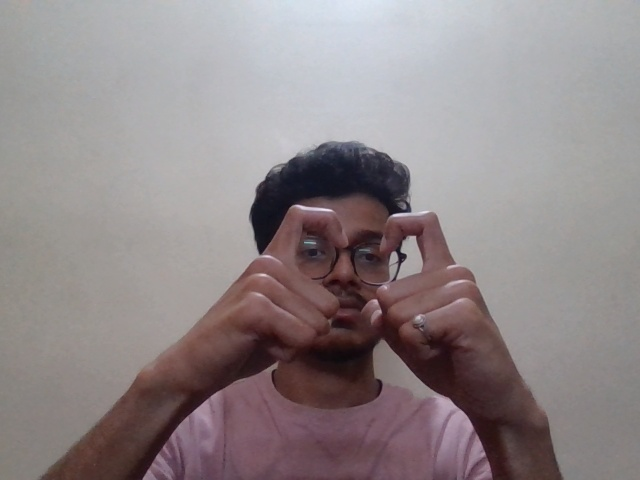who: (211, 201, 510, 395)
